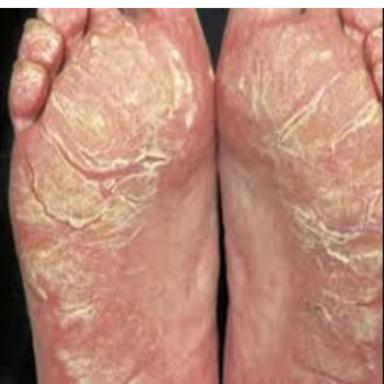eczema: (10, 11, 200, 382), (222, 11, 382, 382)
